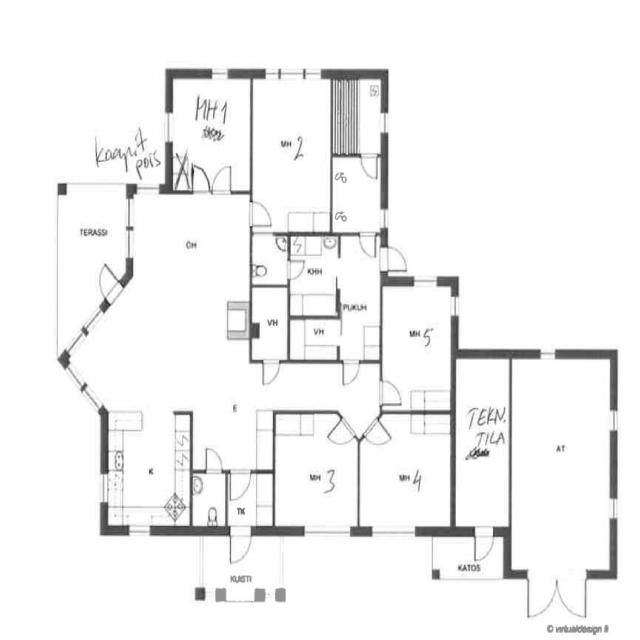door: (518, 564, 598, 624), (250, 234, 292, 286), (188, 162, 236, 195), (226, 522, 254, 567), (226, 463, 254, 505), (379, 243, 411, 275), (471, 524, 496, 564), (246, 197, 275, 231), (377, 374, 405, 409), (259, 355, 283, 390), (339, 354, 362, 390), (358, 150, 382, 184), (331, 414, 354, 449), (356, 228, 379, 261), (202, 443, 224, 476), (368, 414, 388, 449), (285, 256, 306, 281), (376, 204, 391, 230)
window: (257, 62, 327, 84), (366, 520, 422, 542), (61, 357, 89, 398), (122, 193, 138, 264), (59, 178, 129, 194), (297, 521, 357, 539), (411, 271, 443, 292), (95, 469, 112, 508), (124, 520, 155, 539), (206, 63, 234, 83), (162, 108, 176, 147), (533, 344, 561, 363), (376, 203, 392, 234), (378, 107, 393, 139), (448, 292, 463, 322), (607, 406, 621, 436), (607, 492, 620, 521)
zone: (122, 189, 252, 403), (509, 351, 615, 573), (251, 72, 334, 232), (56, 189, 125, 363), (358, 412, 454, 532), (105, 408, 192, 529), (272, 412, 358, 530), (169, 72, 252, 194), (381, 281, 453, 412), (455, 356, 509, 529), (330, 73, 384, 157), (289, 234, 339, 316), (332, 156, 384, 234), (251, 286, 288, 360), (288, 316, 340, 362), (192, 470, 227, 529), (250, 234, 289, 286)
